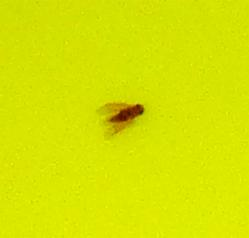Hemiptera: (100, 100, 149, 138)
